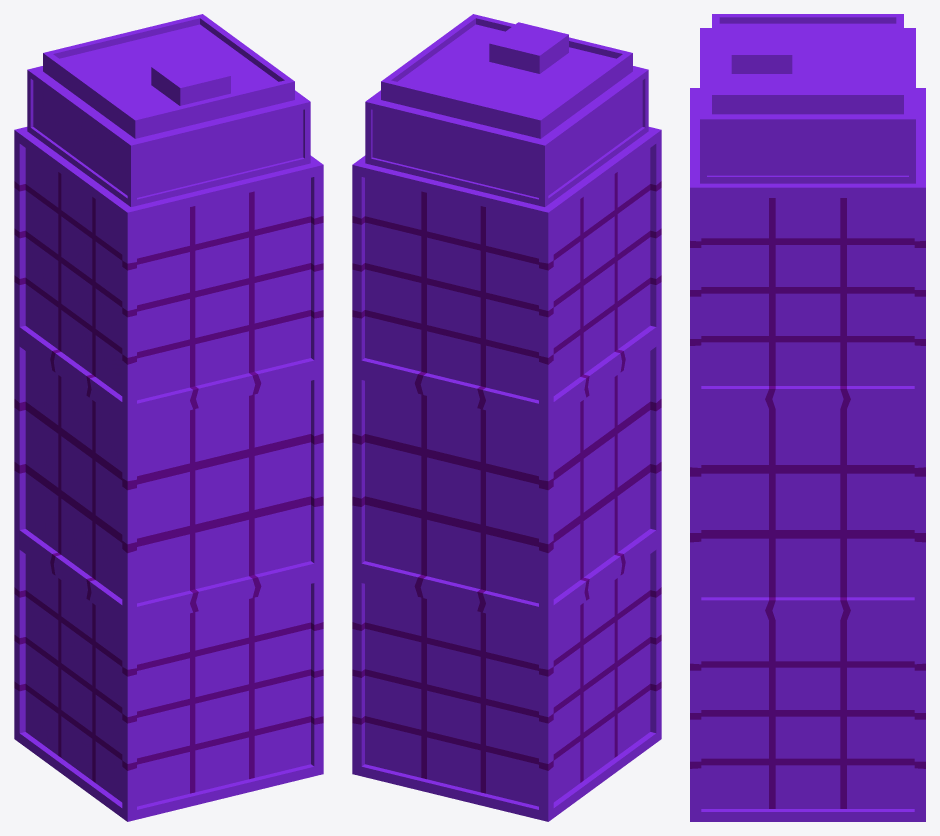
The model's file is Building_2.fbx.
The picture shows the model from 3 angles, left to right: view 1: azimuth 30°, elevation 25°; view 2: azimuth 150°, elevation 25°; view 3: azimuth 270°, elevation 25°; orthographic projection. The views are drawn at different scales.
Parts seen in each view (by area): view 1: Building2; view 2: Building2; view 3: Building2.
Boxes of the visible parts, <box> form: Building2: <box>14,14,323,821</box>; Building2: <box>352,14,661,821</box>; Building2: <box>690,14,925,821</box>.
Size of the model in its own units: 31.23 by 107 by 31.23.
